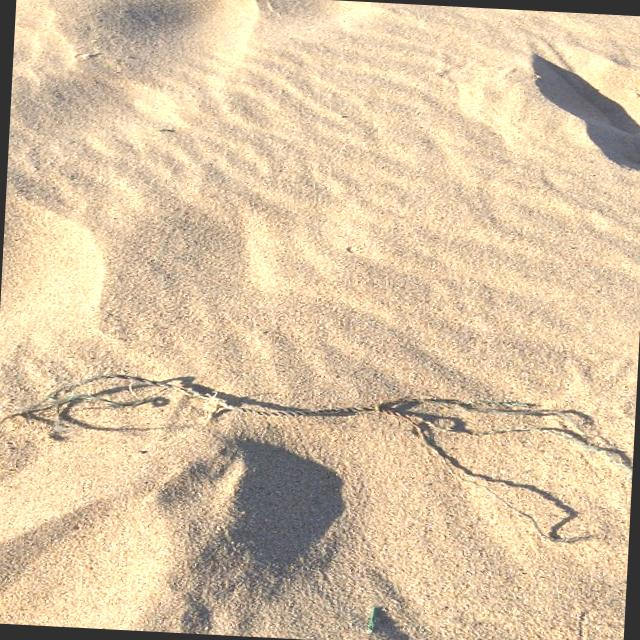Trash: (14, 354, 620, 516)
